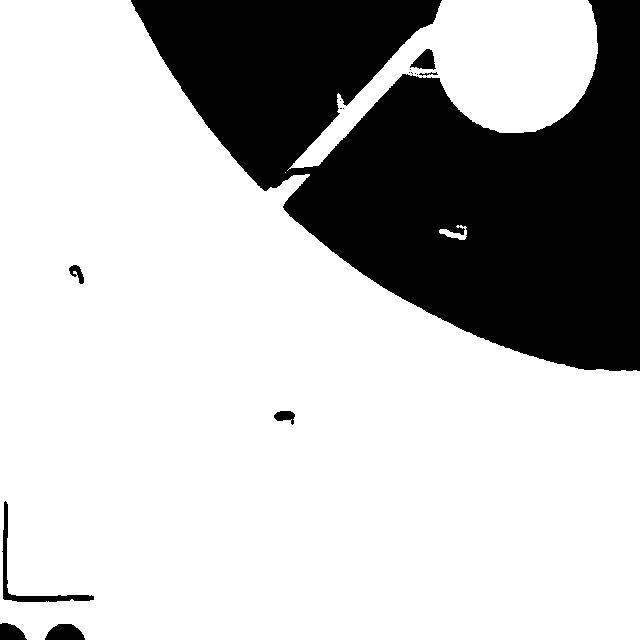copper: (264, 401, 304, 434), (59, 255, 93, 293)
mousebite: (327, 83, 356, 122)
open: (393, 57, 457, 87)
pin-hole: (429, 215, 476, 249)
short: (260, 156, 329, 197)
